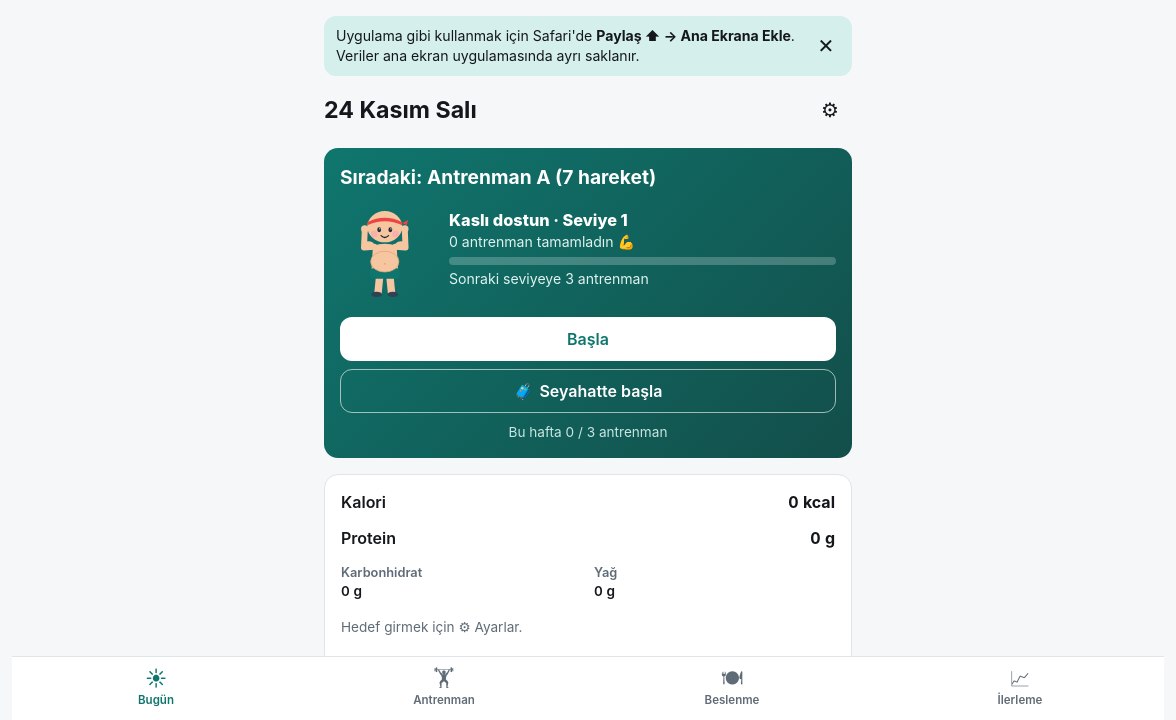
Test case: Bugün ekranındaki Başla antrenman sekmesine geçip oturumu başlatır
The width and height of the screenshot is (1176, 720).
Click the button "Başla": [588, 339] box [340,317,836,361]
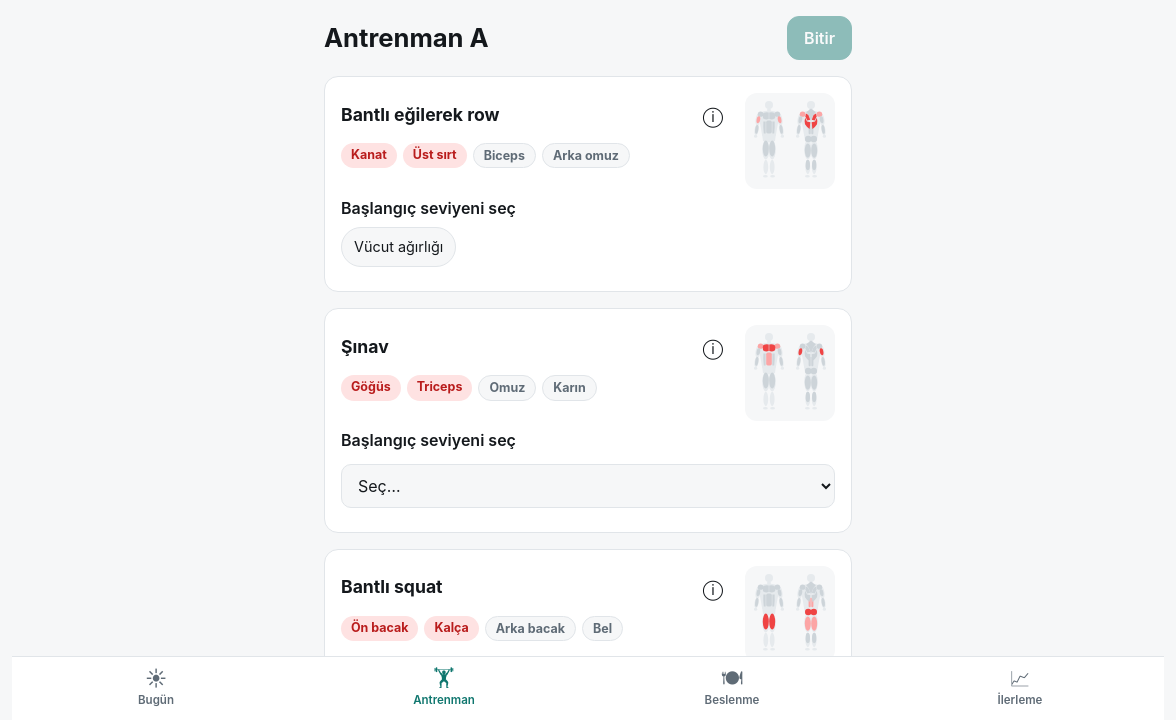
Expected: the heading "Antrenman A" is shown, [324,20,489,56]
Click the button "☀︎ Bugün": [156, 688] box [12,657,300,719]
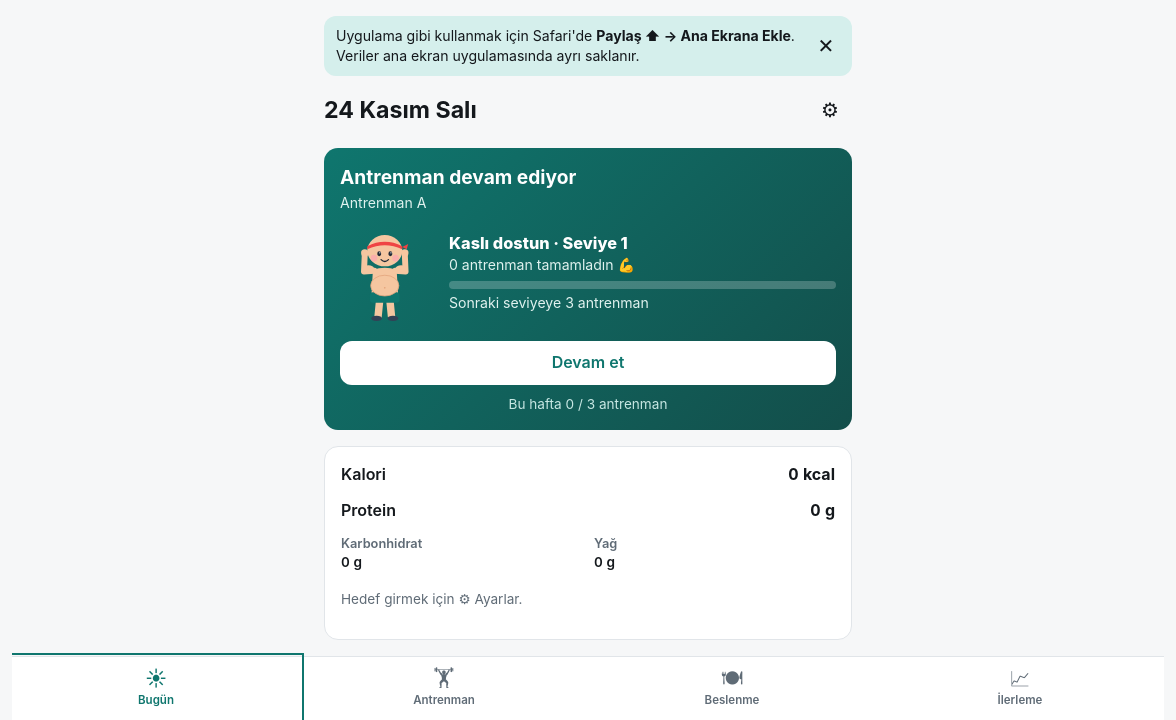
Expected: the button "Devam et" is shown, [340,341,836,385]
